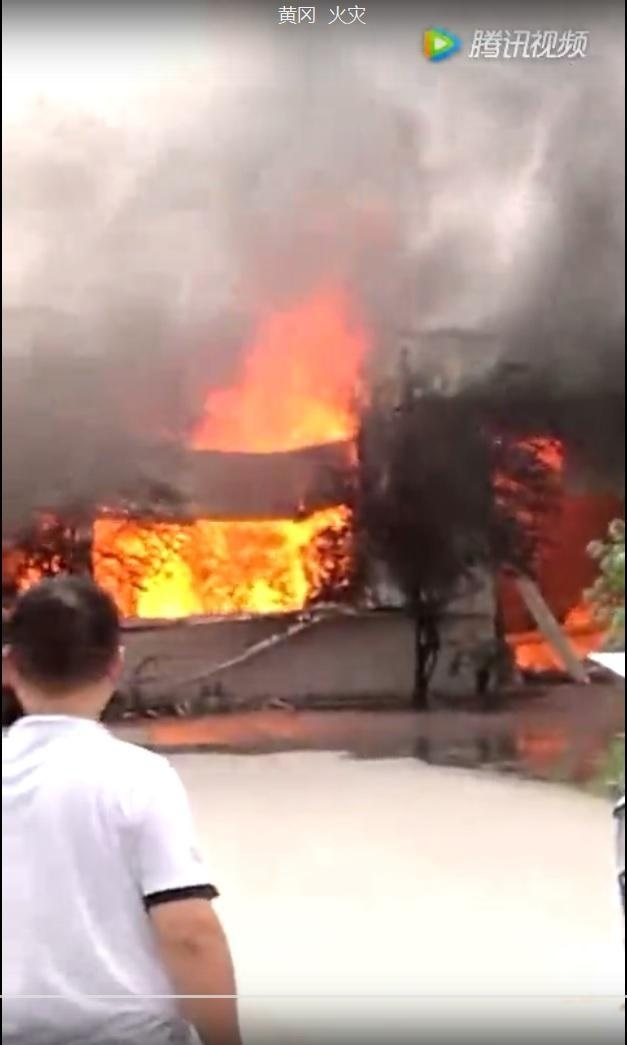fire: (83, 504, 360, 619), (189, 292, 370, 451)
